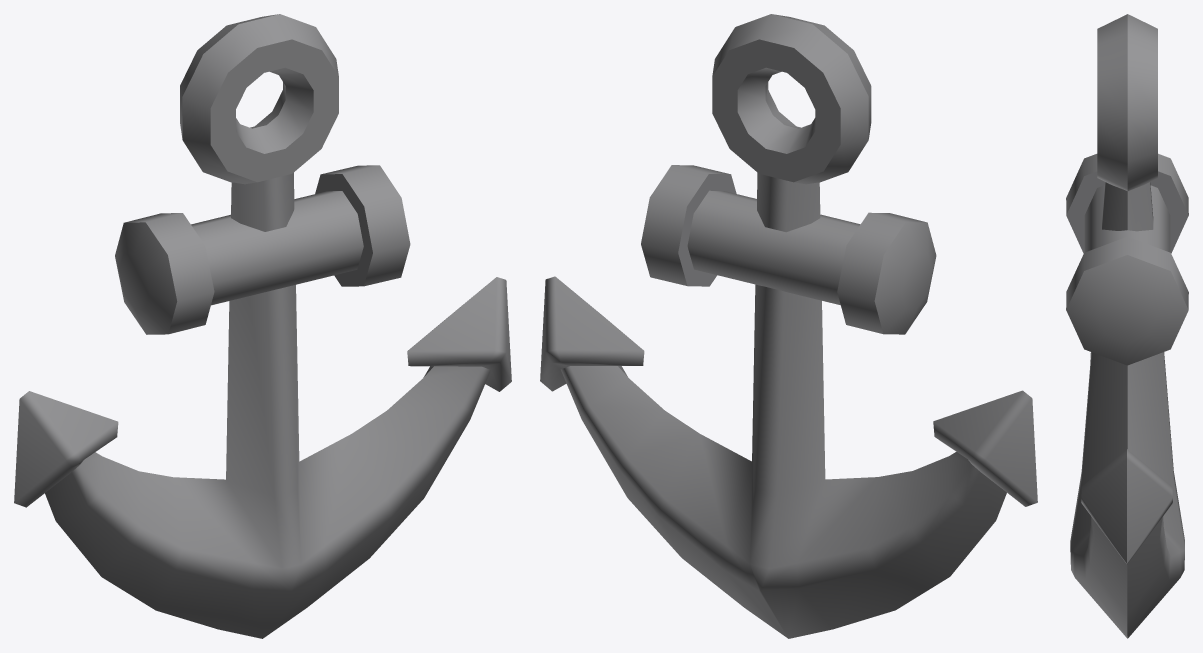
File: Anchor_03.fbx
3 renders of one model, left to right at view 1: azimuth 30°, elevation 25°; view 2: azimuth 150°, elevation 25°; view 3: azimuth 270°, elevation 25°, orthographic.
Visible parts, largest first — view 1: Anchor_03; view 2: Anchor_03; view 3: Anchor_03.
Part boxes in pixels (x1,y1,x2,y2): Anchor_03: (14, 14, 511, 638); Anchor_03: (540, 14, 1037, 638); Anchor_03: (1066, 14, 1188, 638).
Size of the model in its own units: 140 by 167 by 30.29.
